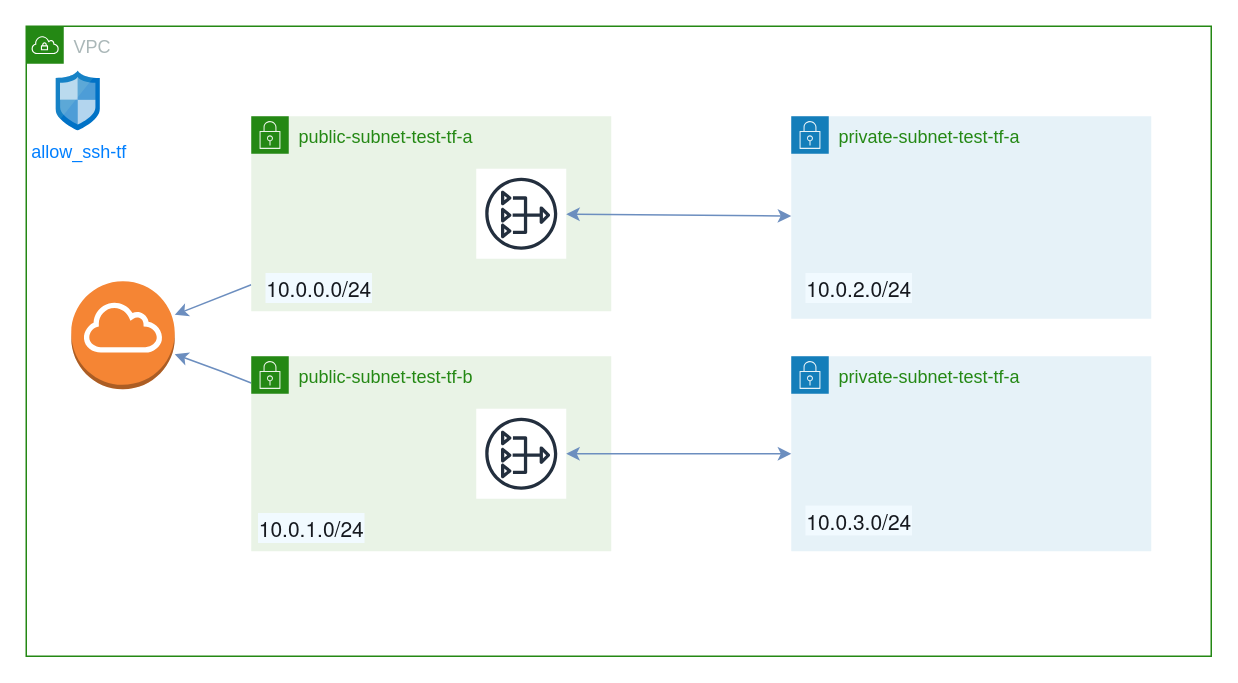
Image size: 1238x683. Some labels were removed from this diagram. The shapes that lost their labels are listed below. From the top down, each one's centre as x and y in pixels, then its label:
At (520,213): "priv-natgw-test-tf-a".
At (122,334): "igw-test-tf".
At (520,453): "priv-natgw-test-tf-b".
